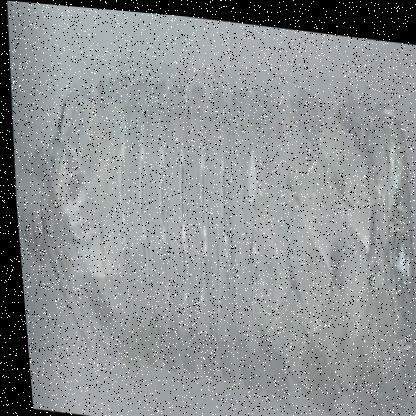open bottle: (1, 1, 151, 416)
